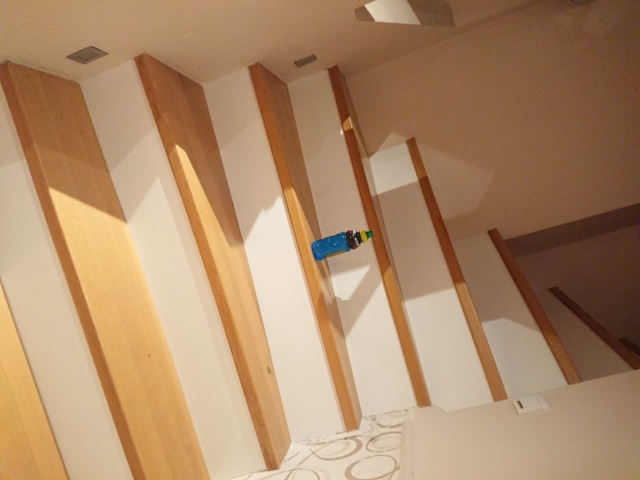Vindi Iso Sport Forest Strawberries 500mL: (309, 228, 374, 262)
